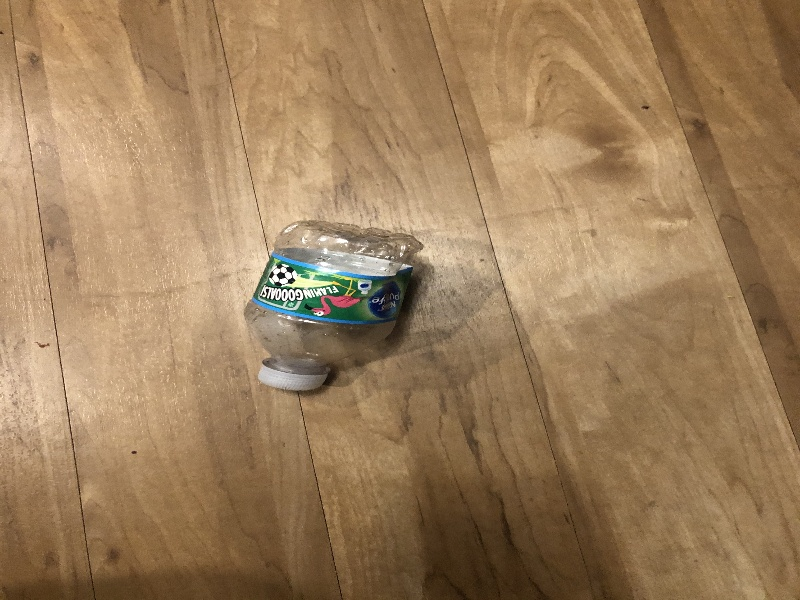plastic: (235, 216, 425, 401)
